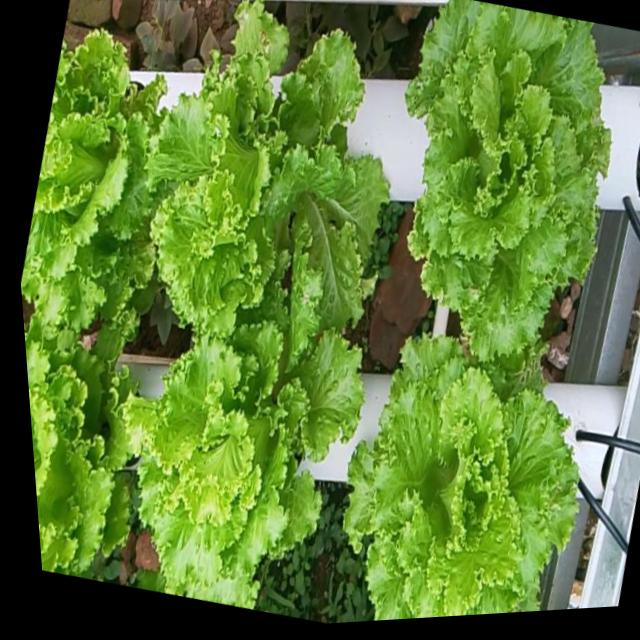Mature: (140, 0, 381, 319), (397, 0, 600, 362), (124, 286, 354, 604), (333, 326, 566, 621), (21, 12, 156, 314), (22, 302, 119, 574)
